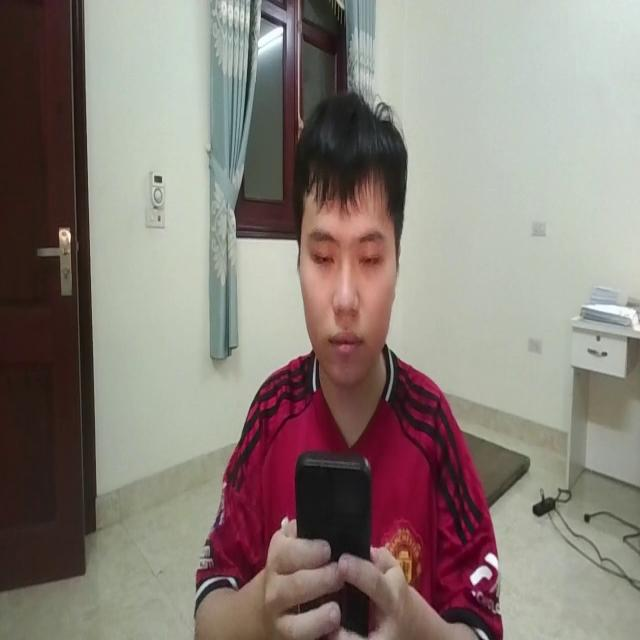phone: (292, 442, 376, 640)
student: (188, 86, 504, 640)
